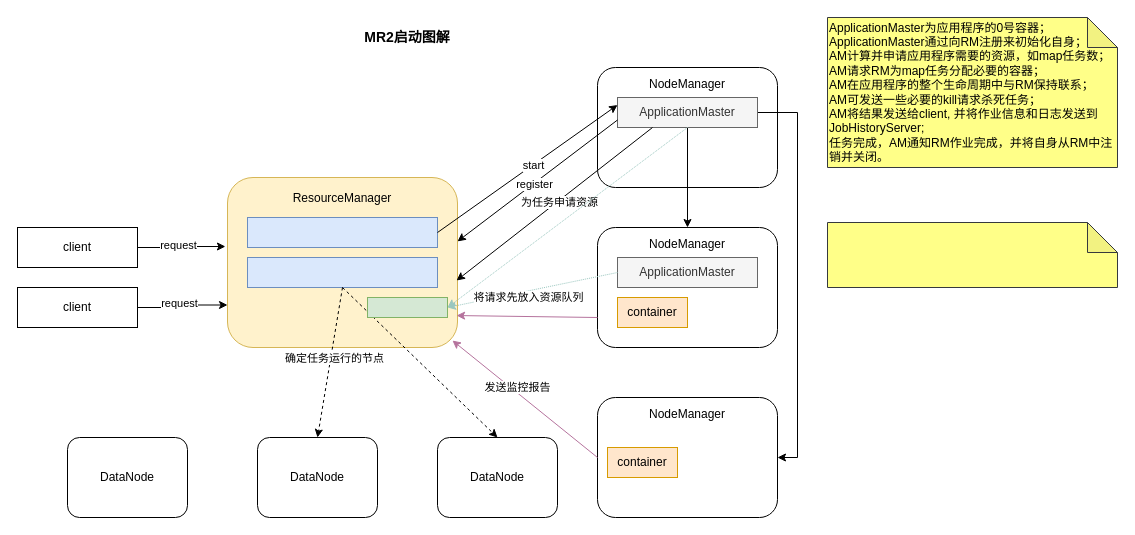
Image size: 1135x535. Some labels were removed from this diagram. The centre of each missing label's shape, as x and y in pixels:
"ApplicationManager" goes at (x=342, y=232).
"NodeManager创建请求的容器，并启动容器； NM发送任务的运行状态给 AM; NM将状态和监控状况报告给RM" goes at (x=972, y=255).
"Scheduler" goes at (x=342, y=272).
"SourceQueue" goes at (x=407, y=307).
